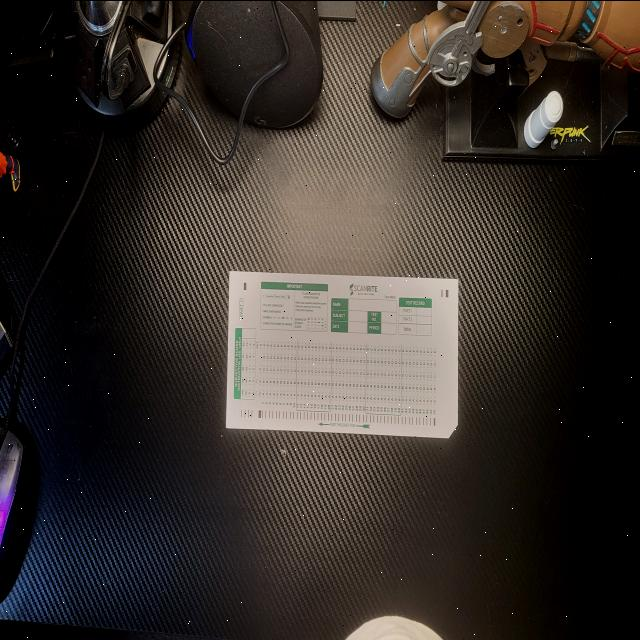scantron: (225, 271, 459, 439)
